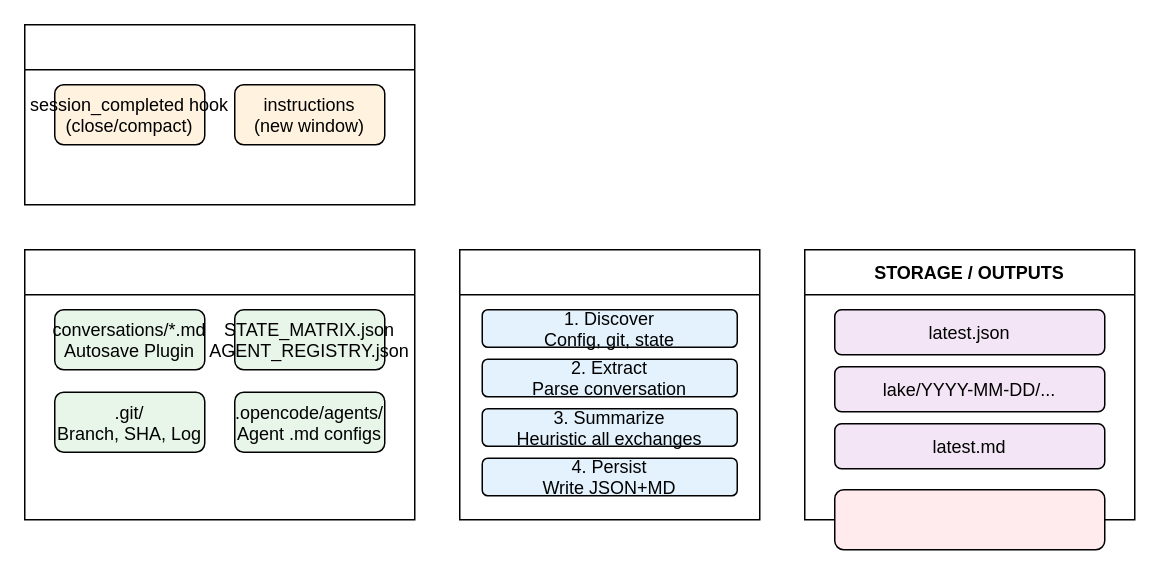
The diagram is 1160 pixels wide and 575 high, and some of its shapes have lost their labels. The box of each missing label's shape, as (x1, y1, x2, y2) in pixels:
CAPTURE ENGINE (capture.py): (458, 248, 760, 520)
INPUT SOURCES: (23, 248, 415, 520)
LLM Context (new window AI session): (833, 488, 1105, 550)
TRIGGERS: (23, 23, 415, 205)
